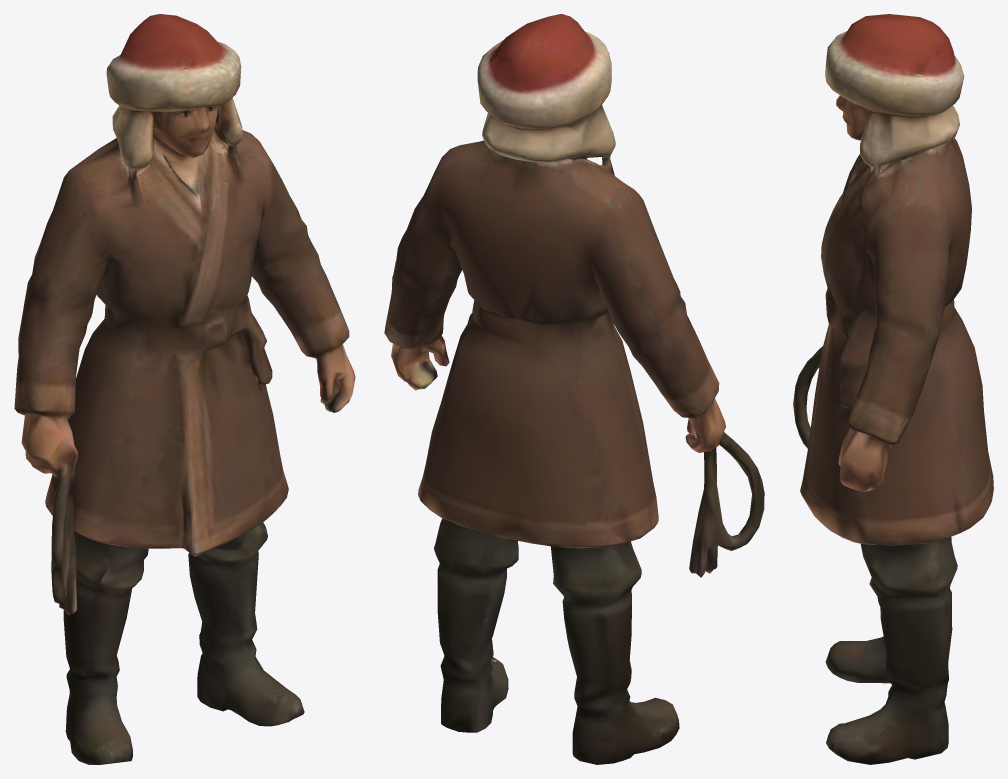
Rendered from herder-dauren.gen.phone.glb.
The picture shows the model from 3 angles, left to right: view 1: azimuth 30°, elevation 25°; view 2: azimuth 150°, elevation 25°; view 3: azimuth 270°, elevation 25°; orthographic projection.
Parts seen in each view (by area): view 1: herder-dauren.raw; view 2: herder-dauren.raw; view 3: herder-dauren.raw.
Boxes of the visible parts, x1=… form: herder-dauren.raw: x1=14, y1=14, x2=355, y2=764; herder-dauren.raw: x1=384, y1=14, x2=764, y2=764; herder-dauren.raw: x1=793, y1=14, x2=993, y2=764.
Bounding box in the file's own units: 0.9166 × 1.85 × 0.4826.
1 material, 1 textured.
